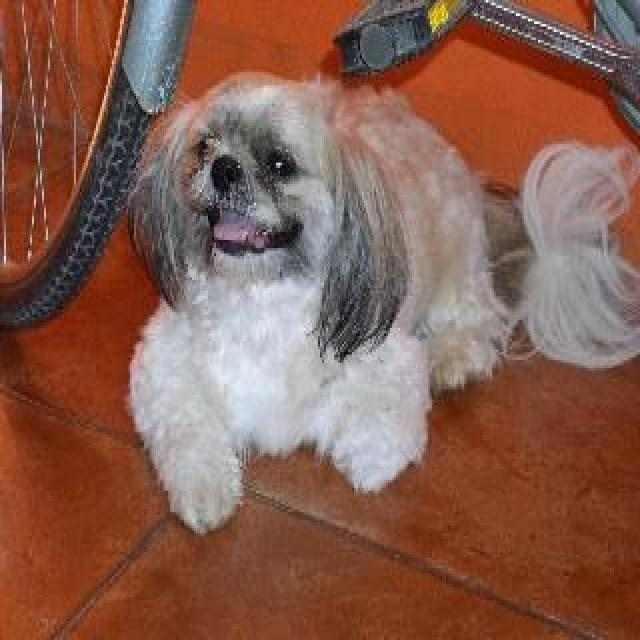shih_tzu: (126, 72, 638, 533)
